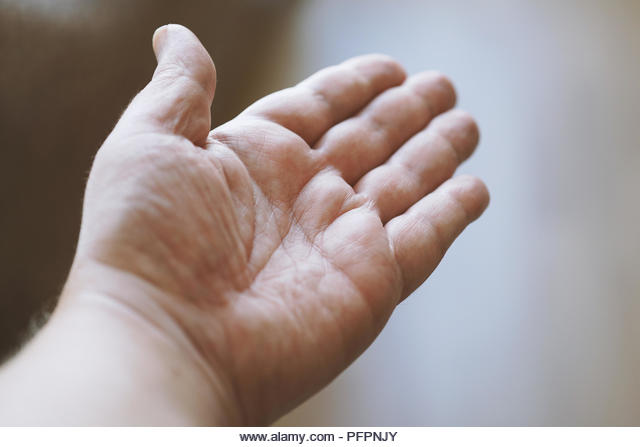non-diseased: (124, 13, 499, 369)
